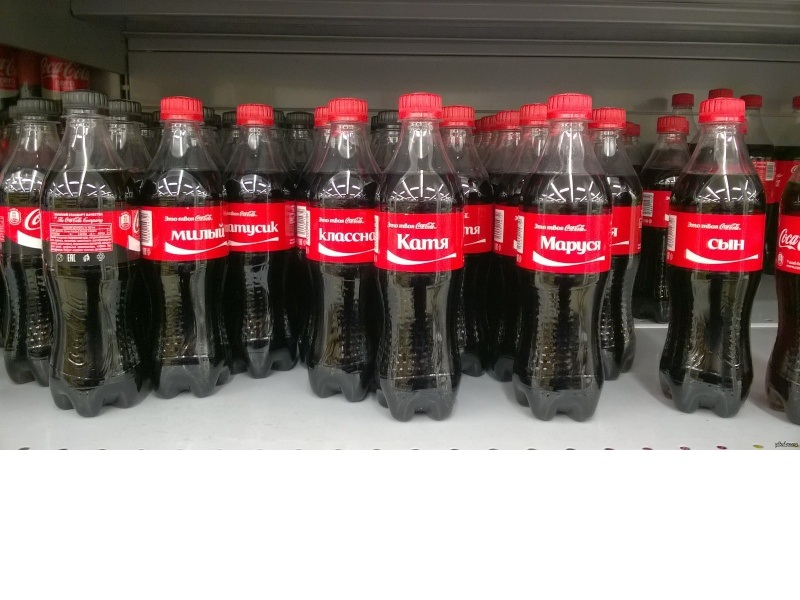lemonade: (28, 92, 146, 423), (662, 95, 773, 438), (512, 92, 616, 435), (134, 91, 238, 412), (372, 92, 469, 434), (299, 98, 388, 426)
